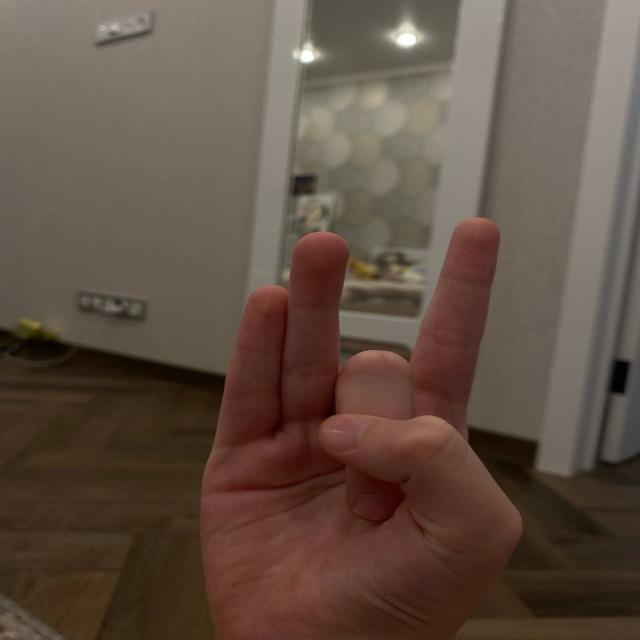r: (149, 183, 551, 640)
